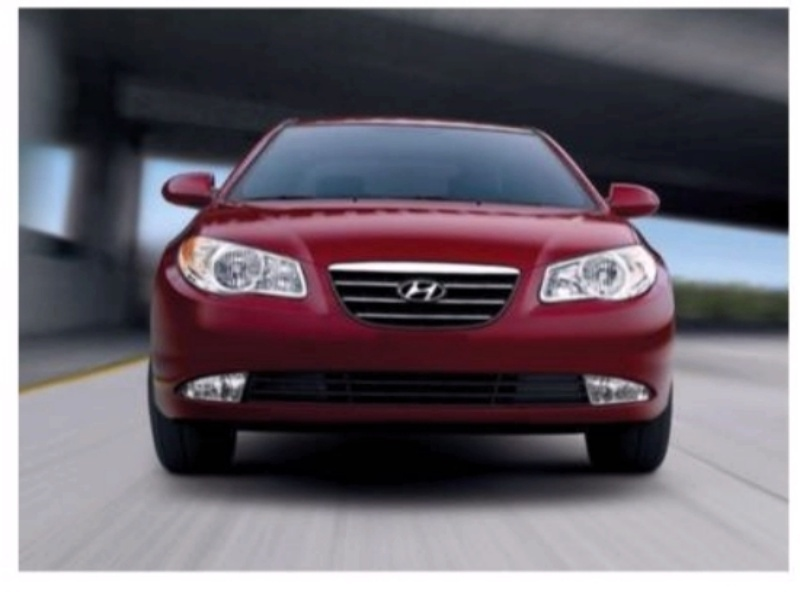normalcar: (104, 69, 721, 509)
